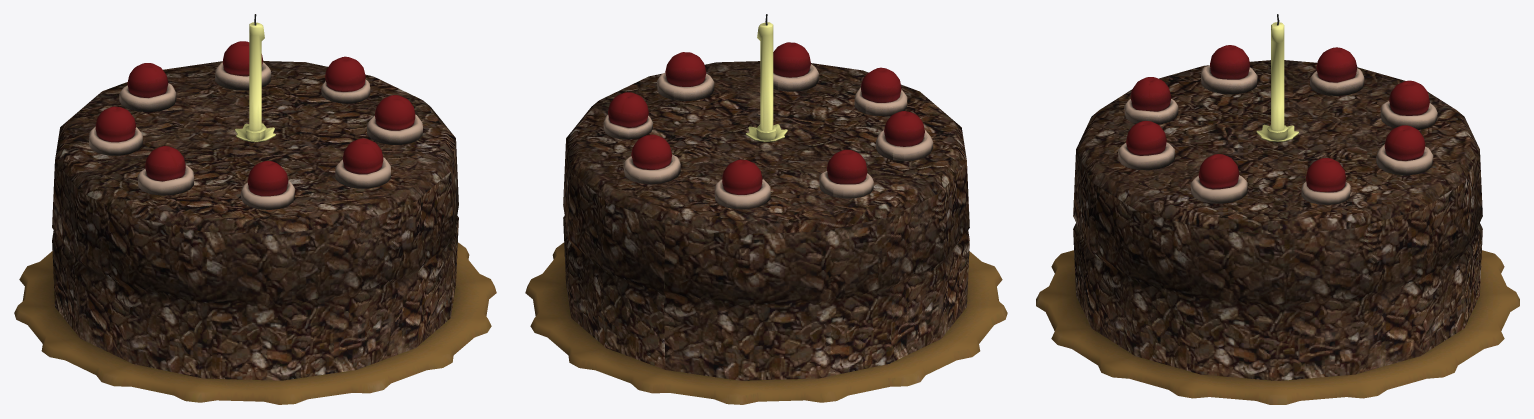
The model's file is portal_cake.glb.
3 renders of one model, left to right at view 1: azimuth 30°, elevation 25°; view 2: azimuth 150°, elevation 25°; view 3: azimuth 270°, elevation 25°, orthographic.
Parts seen in each view (by area): view 1: cake_reference_skeleton; view 2: cake_reference_skeleton; view 3: cake_reference_skeleton.
Boxes of the visible parts, x1,y1,x2,y2 form: cake_reference_skeleton: [14, 14, 496, 404]; cake_reference_skeleton: [525, 14, 1007, 404]; cake_reference_skeleton: [1036, 14, 1519, 404].
Bounding box in the file's own units: 36.87 × 24.25 × 36.87.
1 material, 1 textured.
